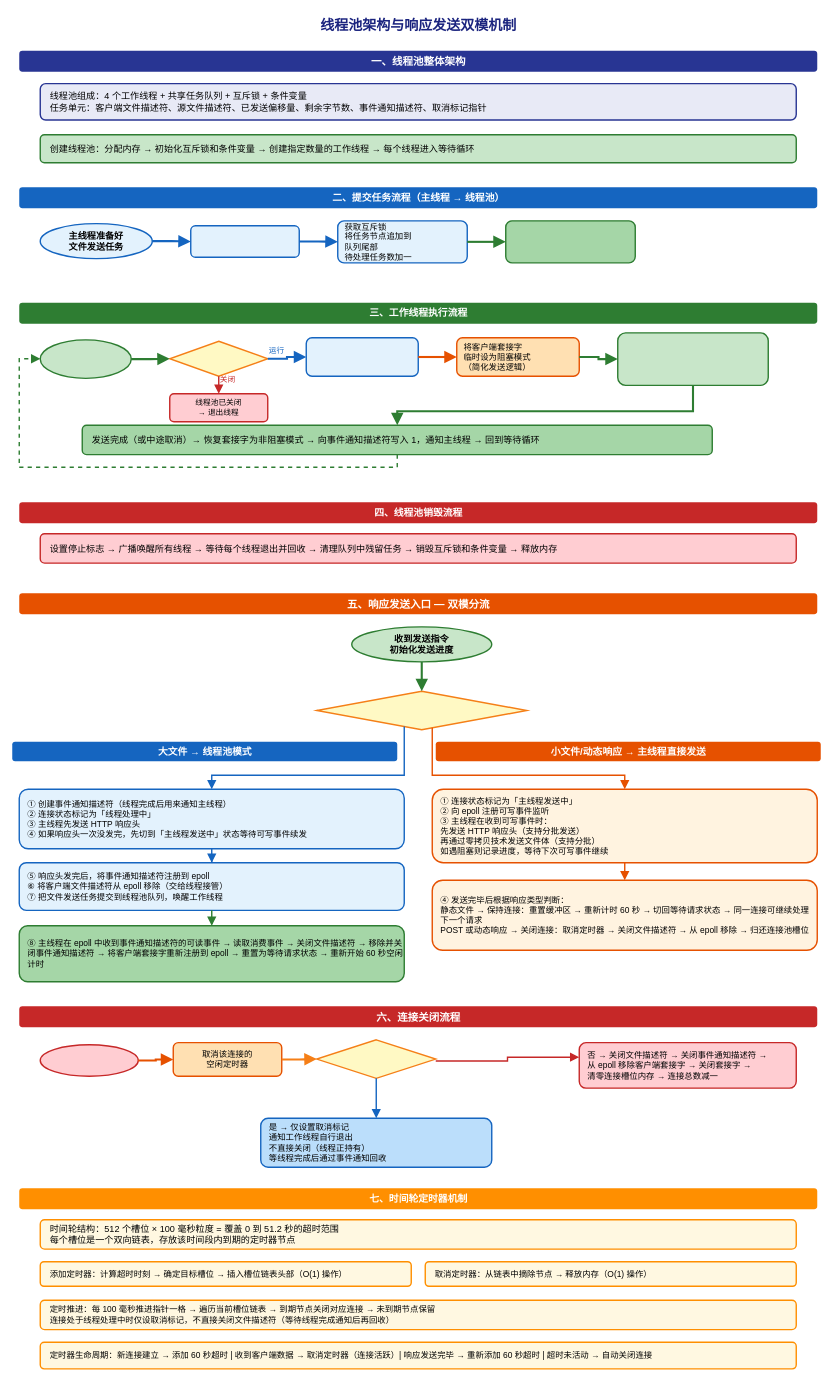
The diagram is 832 pixels wide and 1381 high, and some of its shapes have lost their labels. Here are the shapes that lost their labels. From the top down, the box of each, then its label:
(190, 225, 300, 258): 创建任务节点 拷贝任务数据
(505, 220, 636, 263): 发送条件变量信号 唤醒一个等待中的 工作线程 释放互斥锁 → 返回
(39, 339, 132, 379): 线程等待 条件变量
(169, 340, 268, 377): 被唤醒后 检查运行状态
(305, 337, 419, 377): 从队列头部 取出一个任务 释放互斥锁
(617, 332, 769, 386): 循环分块发送文件 每块最多 256KB 每块之间检查是否 被主线程取消 （连接超时或断开）
(316, 690, 527, 730): 文件大于 64KB 且需要线程池？
(39, 1044, 139, 1077): 收到关闭指令
(316, 1039, 436, 1079): 连接是否正在 被工作线程处理？
